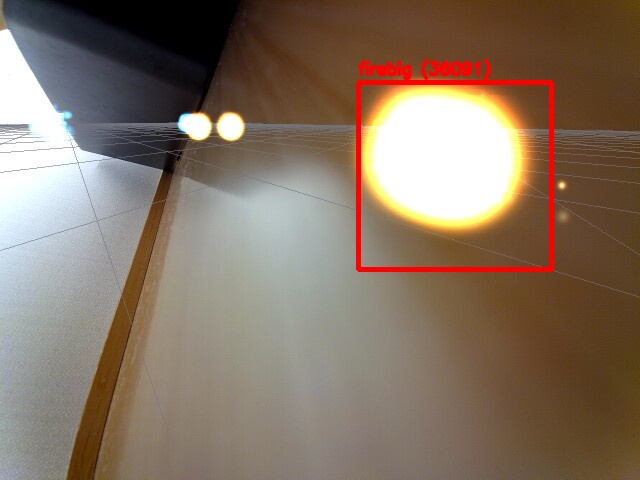firebig: (358, 82, 551, 269)
